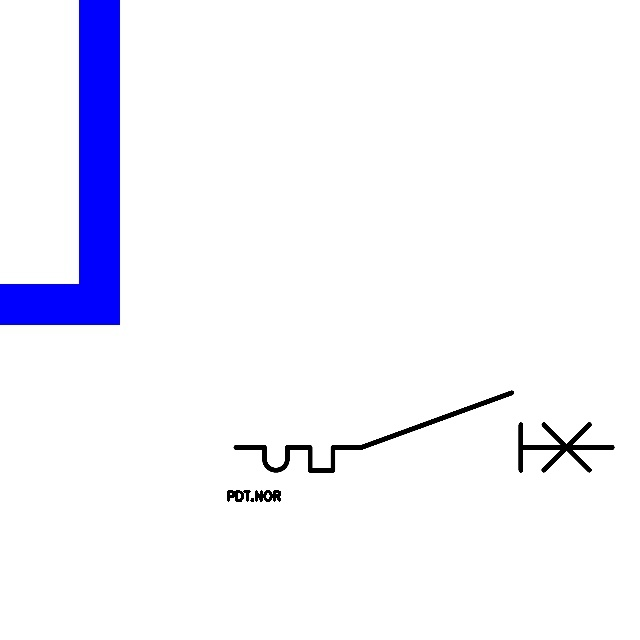interruptor_termomagnetico: (226, 383, 622, 480)
